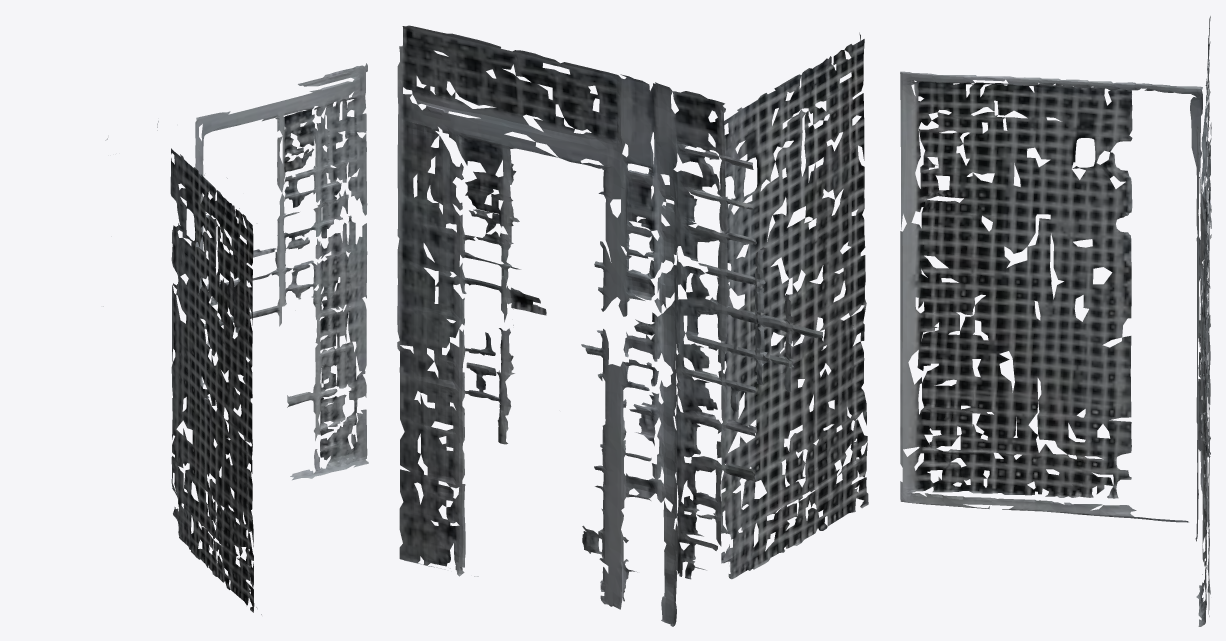
3 views of the same model, side by side, from view 1: azimuth 30°, elevation 25°; view 2: azimuth 150°, elevation 25°; view 3: azimuth 270°, elevation 25° (orthographic). The views are drawn at different scales.
Visible parts, largest first — view 1: geometry_0; view 2: geometry_0; view 3: geometry_0.
Boxes of the visible parts, x1,y1,x2,y2 form: geometry_0: (103, 63, 368, 614); geometry_0: (397, 25, 868, 626); geometry_0: (900, 16, 1211, 626).
Size of the model in its own units: 0.4886 by 0.6029 by 0.3544.
Materials: 1 (1 with a texture image).
